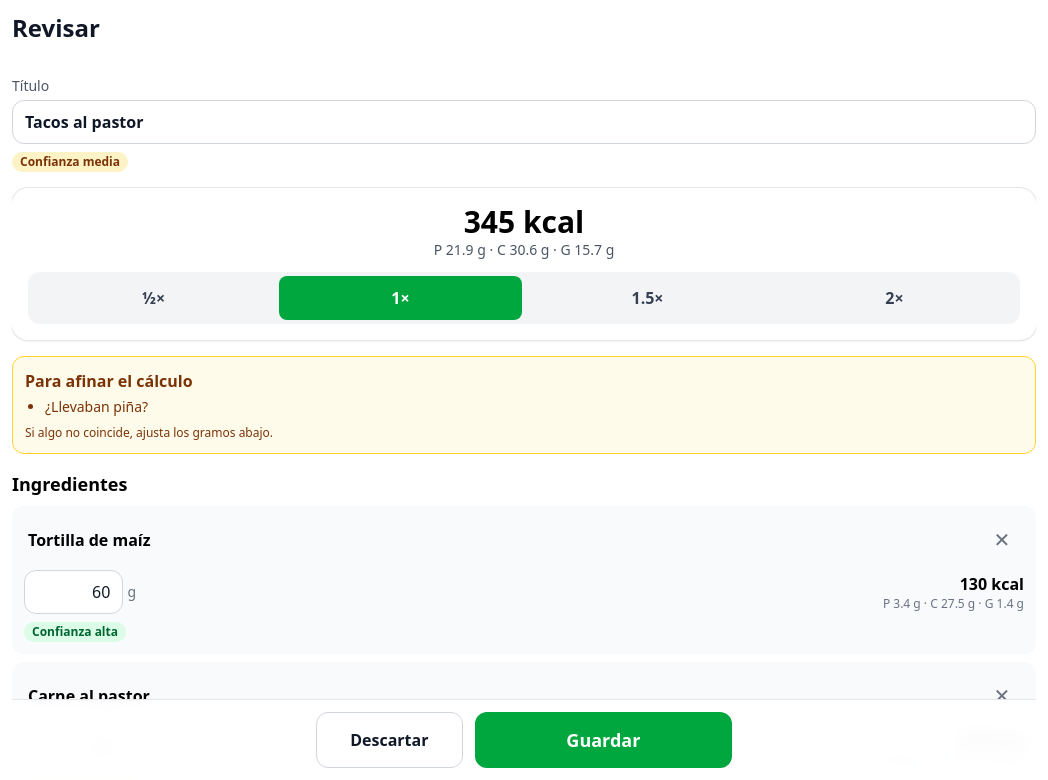
Test: Revisar (adversarial) › BUG: escribir "0" y luego "60" en gramos deja la tortilla en 0 kcal (pasa al teclear "0.5")
Replace the text in the field named "Gramos de Tortilla de maíz" in the row of "3.4 g" with "0" at (74, 592), box x1=24 y1=570 x2=123 y2=614
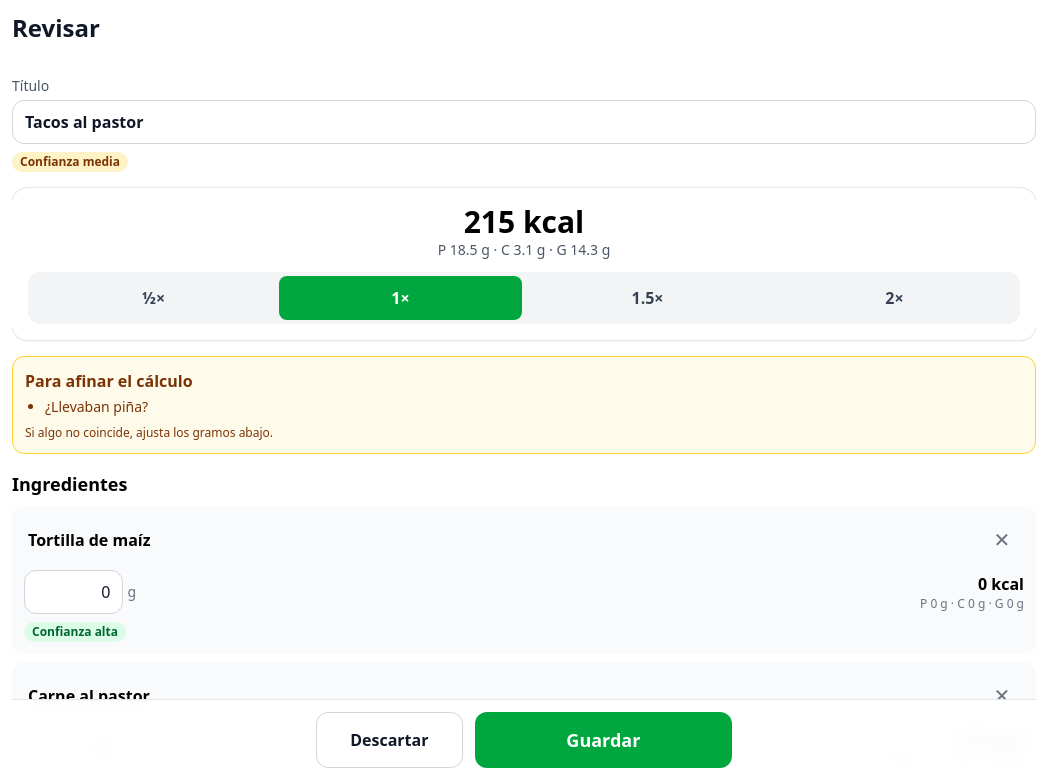
Replace the text in the field named "Gramos de Tortilla de maíz" in the row of "0 kcal" with "60" at (74, 592), box x1=24 y1=570 x2=123 y2=614
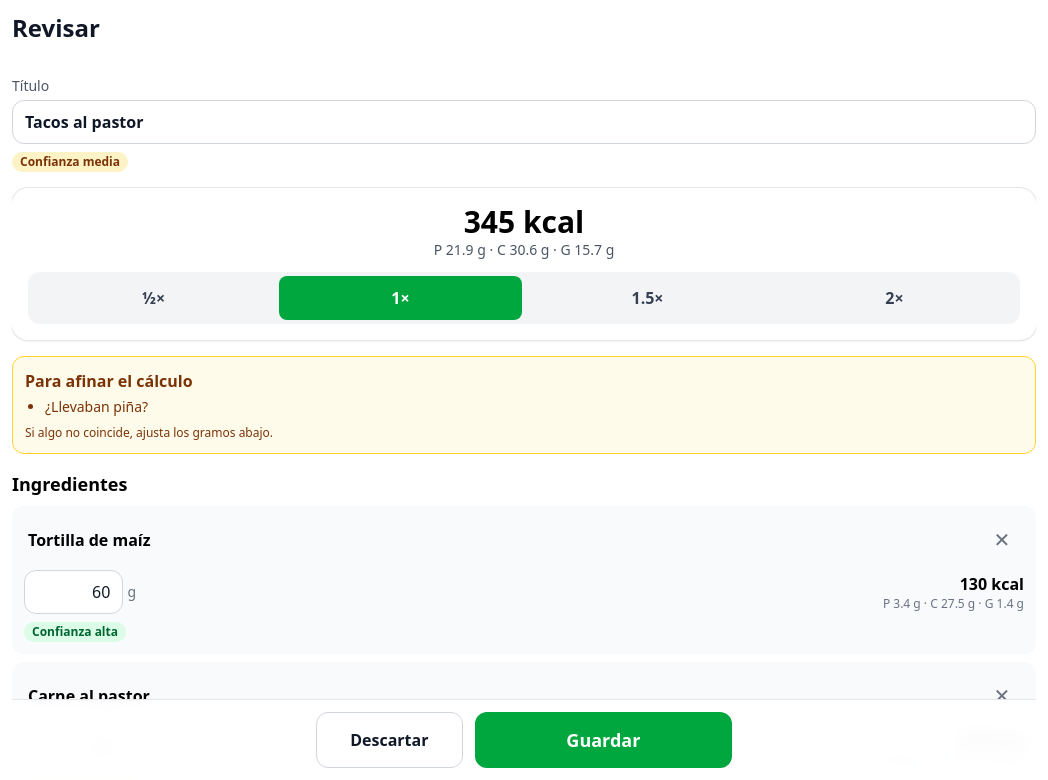
Check: the text with test id "review-total-kcal" reads "345 kcal", box x1=464 y1=201 x2=584 y2=242
